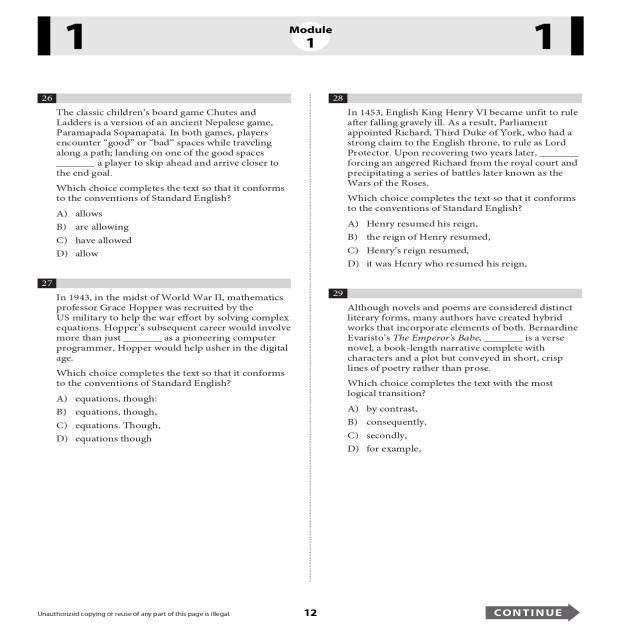Answer_Block: (31, 392, 302, 578), (319, 400, 585, 580), (319, 213, 585, 276), (31, 206, 302, 264)
Question_Answer_Block: (31, 277, 302, 578), (319, 288, 585, 580), (319, 90, 585, 276), (31, 88, 302, 264)
Question_Block: (319, 89, 585, 215), (31, 88, 302, 206), (31, 278, 302, 392), (319, 288, 585, 400)
Question_Paper_Area: (31, 88, 302, 579), (319, 90, 585, 580)
